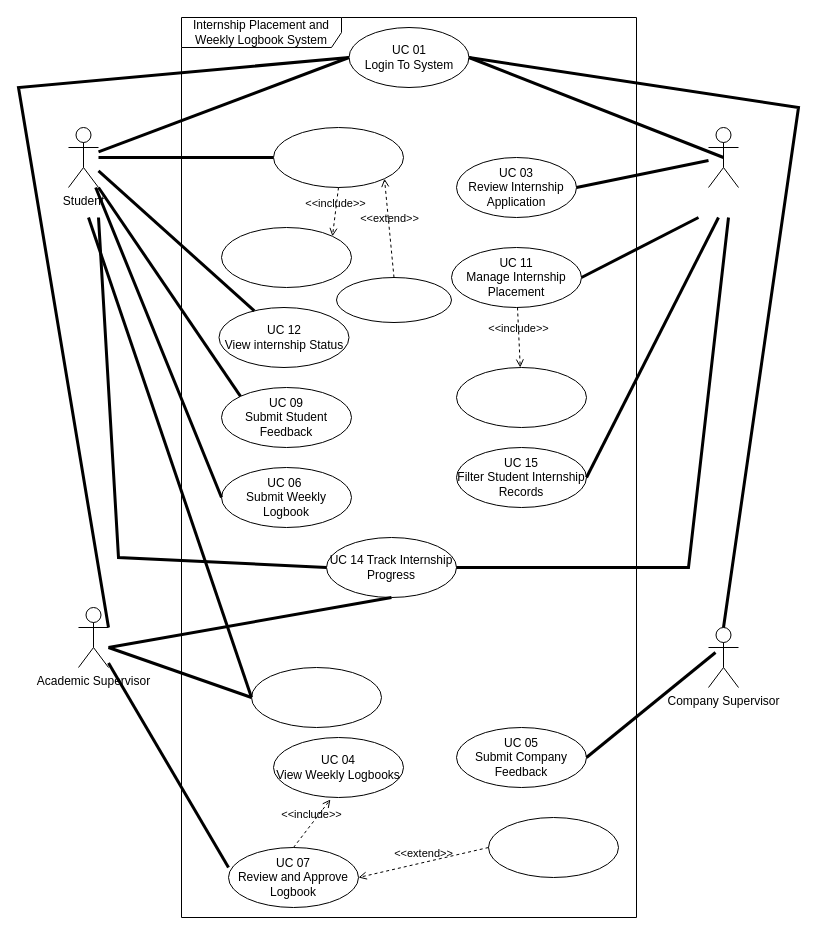
Some shapes in this 818 by 935 pixel diagram are drawn without their labels. Here are the shapes that lost their labels. From the top down, the centre of each, then its label:
the point at 338,157: UC O2 Submit Internship Application
the point at 723,157: Internship Coordinator
the point at 286,257: UC 13 Upload Internship Documents
the point at 394,299: UC 17 Upload Additional Documents
the point at 521,397: UC 10 Assign Internship Supervisors
the point at 316,697: UC 08 Receive Notifications
the point at 553,847: UC 16 Request Logbook Revision
